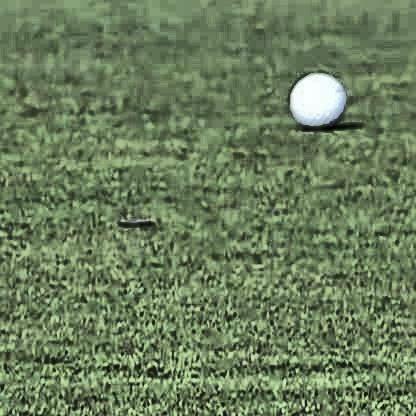golfball: (287, 65, 341, 124)
